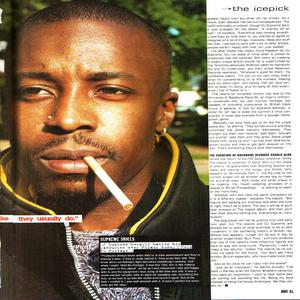cigarette: (81, 154, 136, 211)
